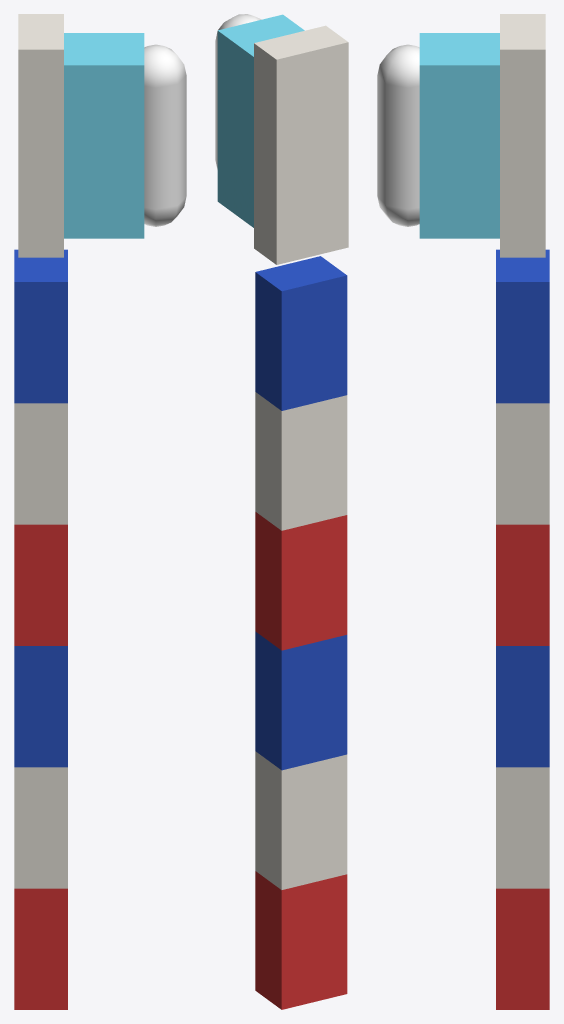
File: gag_brush.glb
The picture shows the model from 3 angles, left to right: view 1: azimuth 90°, elevation 25°; view 2: azimuth 210°, elevation 25°; view 3: azimuth 270°, elevation 25°; orthographic projection.
Parts seen in each view (by area): view 1: gag_brush; view 2: gag_brush; view 3: gag_brush.
Boxes of the visible parts, x1,y1,x2,y2 form: gag_brush: (14, 14, 186, 1009); gag_brush: (215, 14, 348, 1009); gag_brush: (377, 14, 549, 1009).
Bounding box in the file's own units: 0.022 × 0.2775 × 0.045.
